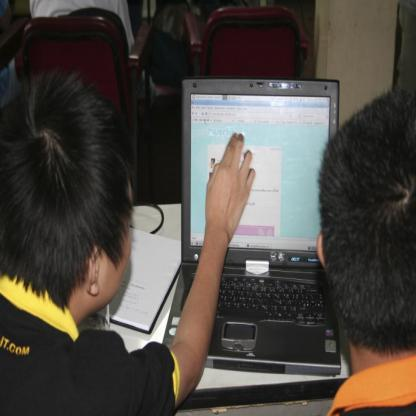board: (163, 78, 341, 378)
